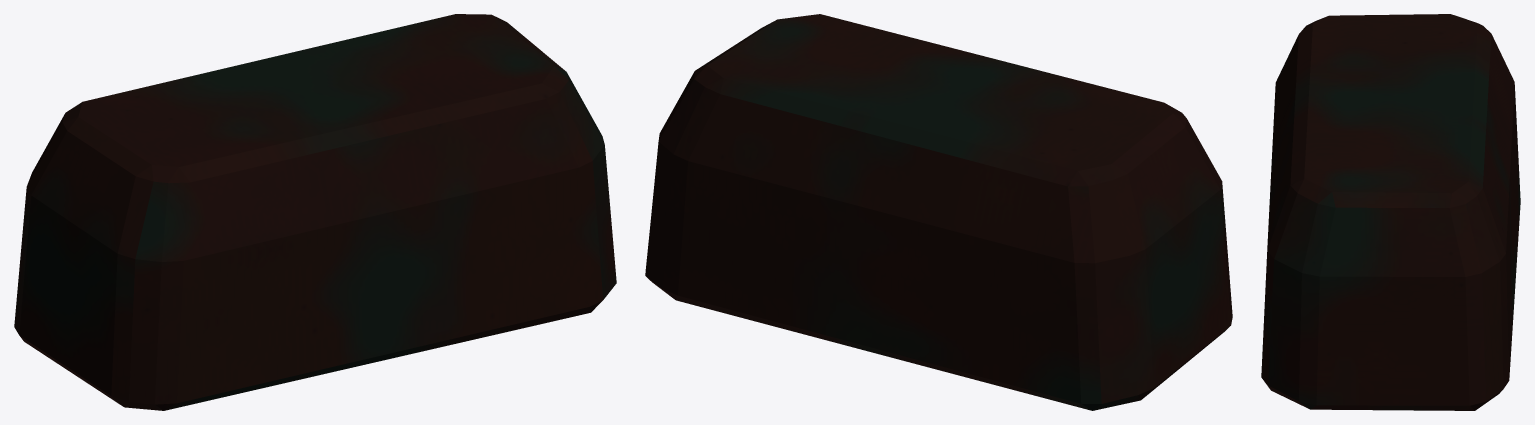
File: ancient_copper_ingot_LOD1.glb
3 renders of one model, left to right at view 1: azimuth 30°, elevation 25°; view 2: azimuth 150°, elevation 25°; view 3: azimuth 270°, elevation 25°, orthographic. The views are drawn at different scales.
Parts seen in each view (by area): view 1: Watertight irregular ancient copper ingot; view 2: Watertight irregular ancient copper ingot; view 3: Watertight irregular ancient copper ingot.
Boxes of the visible parts, bbox=[...] form: Watertight irregular ancient copper ingot: bbox=[14, 14, 616, 410]; Watertight irregular ancient copper ingot: bbox=[645, 14, 1232, 410]; Watertight irregular ancient copper ingot: bbox=[1261, 14, 1520, 410].
Bounding box in the file's own units: 0.3079 × 0.1283 × 0.1501.
Materials: 1 (1 with a texture image).
